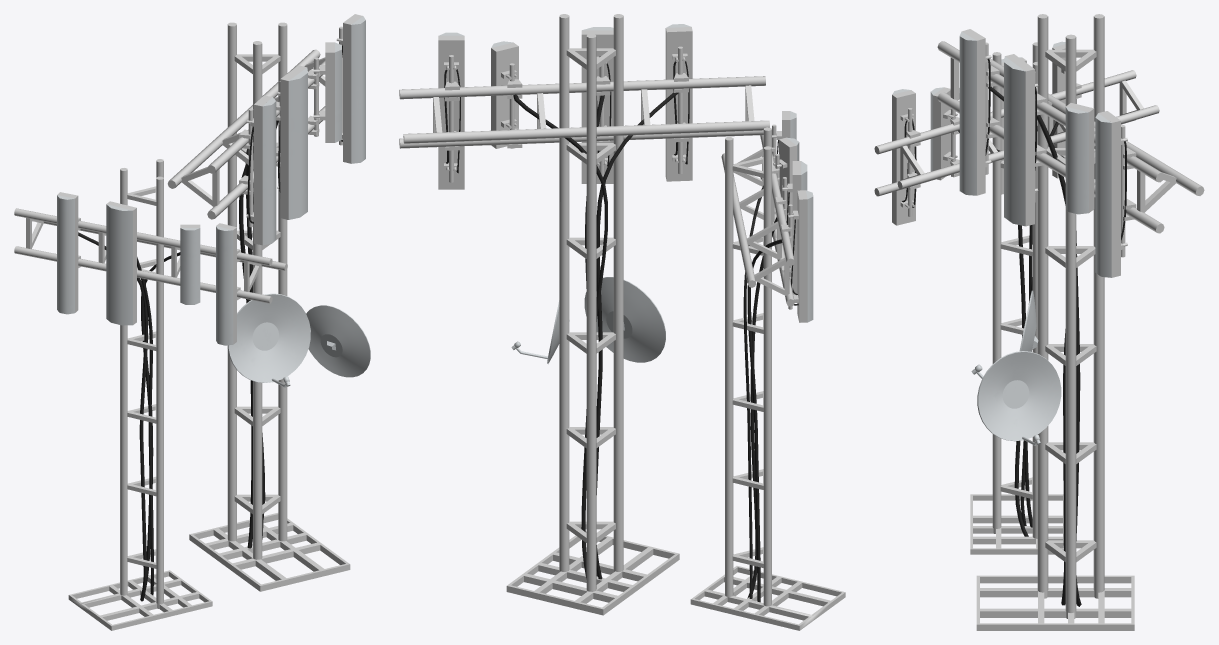
Rendered from KB3D_NTT_RooftopPart_H.fbx.
3 views of the same model, side by side, from view 1: azimuth 30°, elevation 25°; view 2: azimuth 150°, elevation 25°; view 3: azimuth 270°, elevation 25° (orthographic). The views are drawn at different scales.
Visible parts, largest first — view 1: KB3D_NTT_RooftopPart_H_Main; view 2: KB3D_NTT_RooftopPart_H_Main; view 3: KB3D_NTT_RooftopPart_H_Main.
Boxes of the visible parts, box(x1,y1,x2,y2) form: KB3D_NTT_RooftopPart_H_Main: box(14, 14, 370, 630); KB3D_NTT_RooftopPart_H_Main: box(399, 14, 845, 630); KB3D_NTT_RooftopPart_H_Main: box(874, 14, 1204, 630).
Size of the model in its own units: 407 by 572 by 293.
